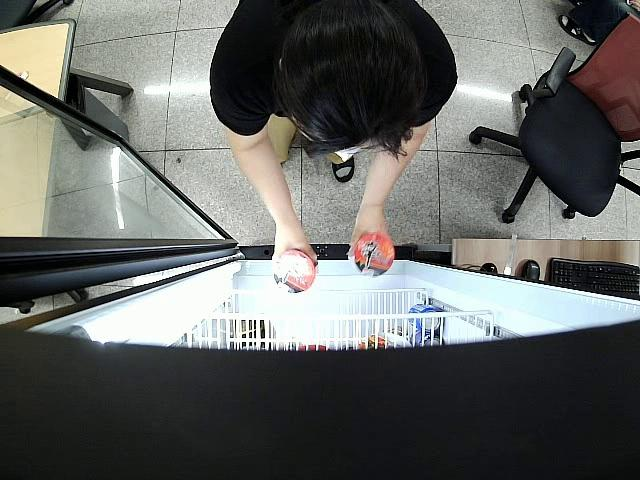00_hand: (271, 221, 319, 263), (347, 212, 393, 247)
02_shinRamen_S: (349, 231, 394, 278), (273, 251, 317, 295)
